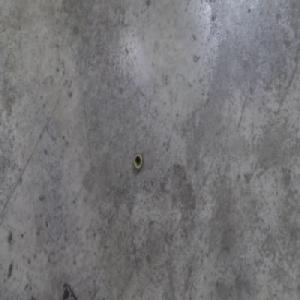Nut: (132, 151, 144, 171)
